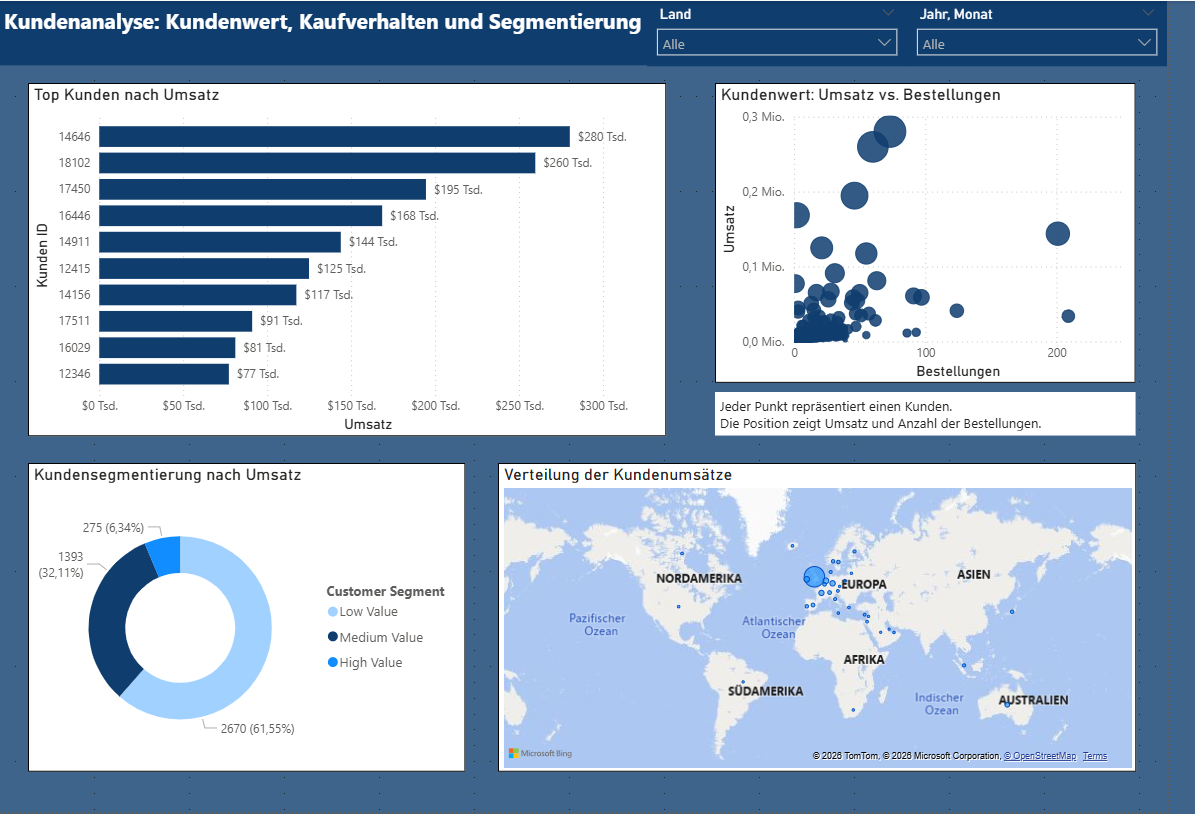

The dashboard page shown, as its layout file describes it:
{"tool":"powerbi","page":{"name":"Kundenanalyse","canvas":[1180,820],"ordinal":2},"visuals":[{"type":"clusteredBarChart","title":"Top Kunden nach Umsatz","fields":{"Category":["dim_customer.CustomerID"],"Y":["fact_sales.Total Revenue"]},"box":[29.3,82.9,644.7,356.7],"z":0},{"type":"scatterChart","title":"Kundenwert: Umsatz vs. Bestellungen","fields":{"X":["fact_sales.Total Orders"],"Y":["dim_customer.Customer Revenue"],"Size":["dim_customer.Customer Revenue"],"Category":["dim_customer.CustomerID"]},"box":[723.5,82.9,425.4,303.2],"z":1000},{"type":"textbox","box":[723.5,395.1,425.4,44.5],"z":2000},{"type":"map","title":"Verteilung der Kundenumsätze","fields":{"Category":["dim_customer.Country"],"Size":["fact_sales.Total Revenue"]},"box":[504.3,466.9,644.7,312.3],"z":3000},{"type":"donutChart","title":"Kundensegmentierung nach Umsatz","fields":{"Y":["dim_customer.Customer Count"],"Category":["dim_customer.Customer Segment2"]},"box":[29.3,466.9,441.6,312.3],"z":4000},{"type":"textbox","box":[0,0,655.2,65.3],"z":5000},{"type":"slicer","fields":{"Values":["dim_date.Date.Variation.Datumshierarchie.Jahr","dim_date.Date.Variation.Datumshierarchie.Monat"]},"box":[917.6,0,262.7,65.7],"z":6000},{"type":"slicer","fields":{"Values":["dim_customer.Country"]},"box":[654.8,0,262.7,65.7],"z":7000}]}

Visuals, with their boxes in screenshot pixels (x1, y1, x2, y2), scaled from the page's 1180x820 canvas onto the 1195x814 screenshot:
"Top Kunden nach Umsatz" clusteredBarChart: (x1=30, y1=82, x2=683, y2=436)
"Kundenwert: Umsatz vs. Bestellungen" scatterChart: (x1=733, y1=82, x2=1164, y2=383)
textbox: (x1=733, y1=392, x2=1164, y2=436)
"Verteilung der Kundenumsätze" map: (x1=511, y1=463, x2=1164, y2=773)
"Kundensegmentierung nach Umsatz" donutChart: (x1=30, y1=463, x2=477, y2=773)
textbox: (x1=0, y1=0, x2=664, y2=65)
slicer - dim_date.Date.Variation.Datumshierarchie.Jahr x dim_date.Date.Variation.Datumshierarchie.Monat: (x1=929, y1=0, x2=1194, y2=65)
slicer - dim_customer.Country: (x1=663, y1=0, x2=929, y2=65)
